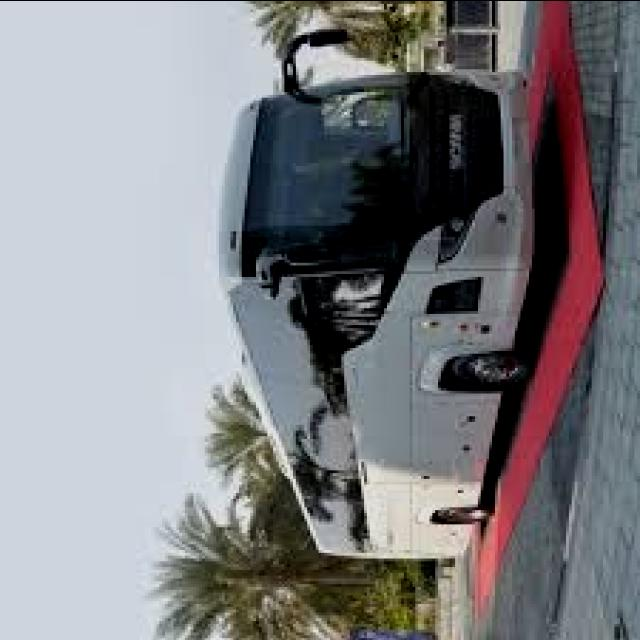bus: (199, 12, 569, 580)
